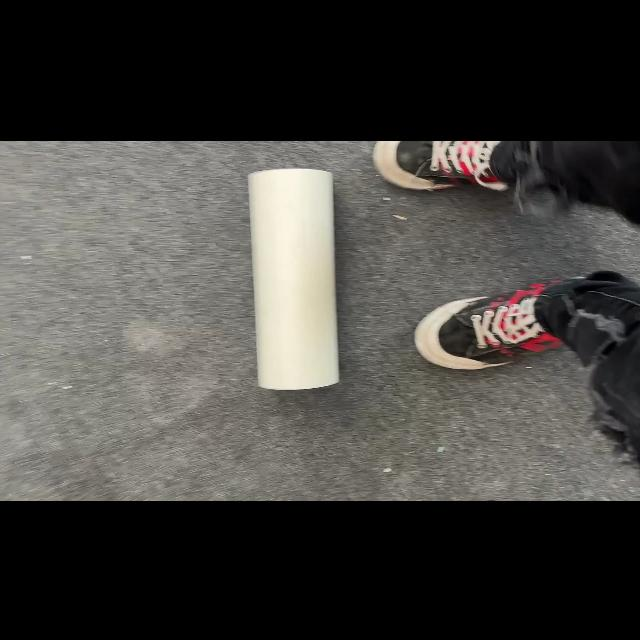CORAL: (246, 166, 340, 390)
